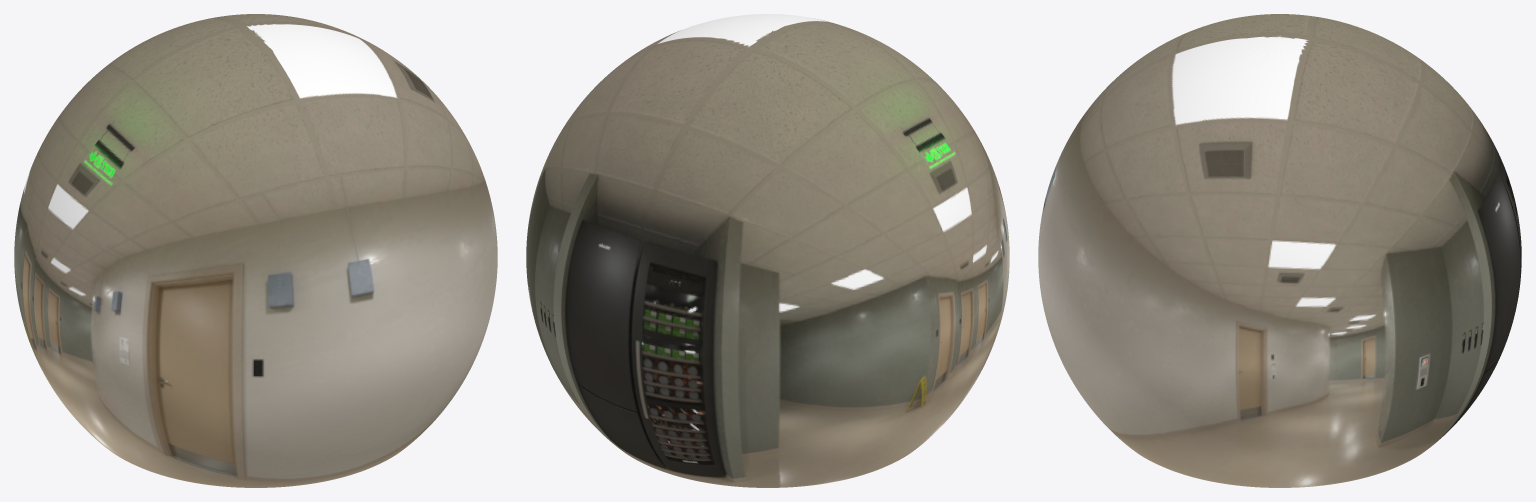
Rendered from Interior 57 - test.glb.
The picture shows the model from 3 angles, left to right: view 1: azimuth 30°, elevation 25°; view 2: azimuth 150°, elevation 25°; view 3: azimuth 270°, elevation 25°; orthographic projection.
Visible parts, largest first — view 1: Sphere; view 2: Sphere; view 3: Sphere.
Part boxes in pixels (x1,y1,x2,y2): Sphere: (14,14,497,487); Sphere: (526,14,1009,487); Sphere: (1038,14,1521,487).
Size of the model in its own units: 19.73 by 17.33 by 19.73.
Materials: 1 (1 with a texture image).
